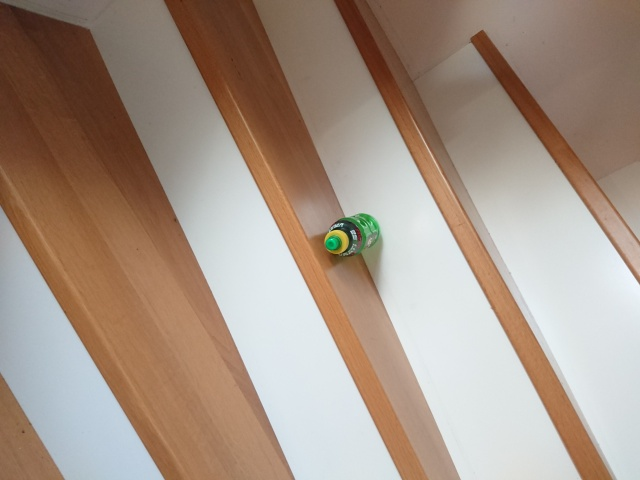Vindi Iso Sport Lemon-Grapefruit 500mL: (321, 211, 382, 259)
